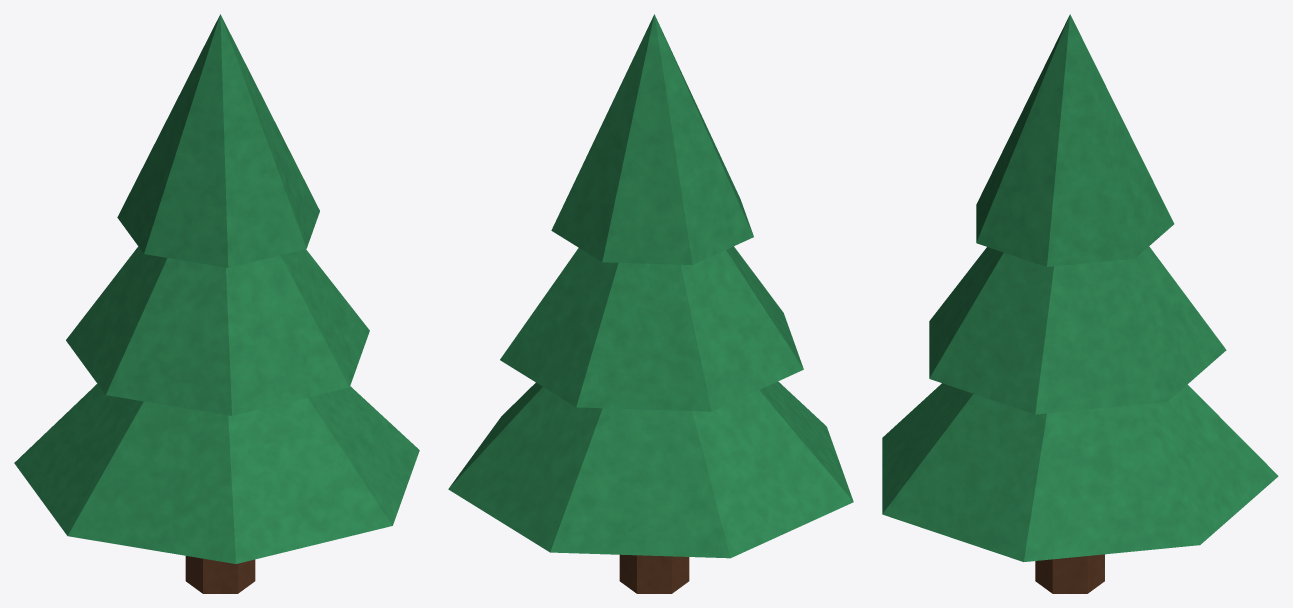
The model's file is pine.fbx.
The picture shows the model from 3 angles, left to right: view 1: azimuth 30°, elevation 25°; view 2: azimuth 150°, elevation 25°; view 3: azimuth 270°, elevation 25°; orthographic projection.
Visible parts, largest first — view 1: Pine; view 2: Pine; view 3: Pine.
Part boxes in pixels (x1,y1,x2,y2): Pine: [14, 14, 419, 593]; Pine: [448, 14, 853, 593]; Pine: [882, 14, 1278, 593].
Bounding box in the file's own units: 3.51 × 5.4 × 3.42.
1 material, 1 textured.
